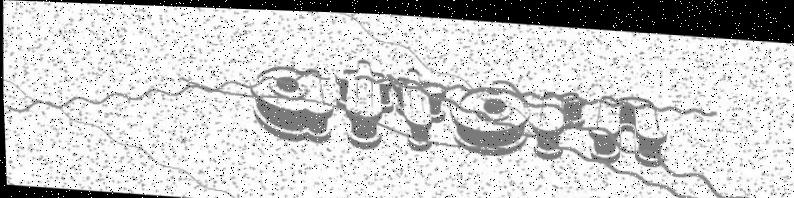a: (246, 60, 338, 143)
n: (585, 87, 669, 165)
o: (445, 78, 530, 155)
r: (527, 84, 587, 158)
t: (331, 53, 398, 149), (390, 62, 449, 150)
